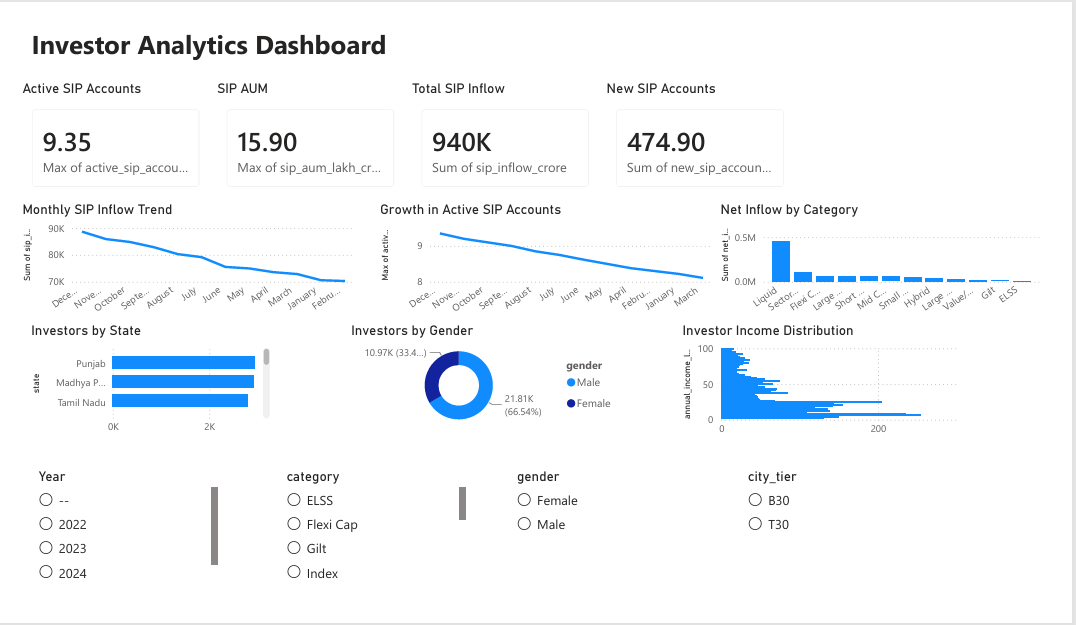

The dashboard page shown, as its layout file describes it:
{"tool":"powerbi","page":{"name":"Investor Analytics","canvas":[1280,720],"ordinal":3},"visuals":[{"type":"textbox","box":[10.7,0,480,53.5],"z":0},{"type":"cardVisual","title":"Active SIP Accounts","fields":{"Data":["Max(04_monthly_sip_inflows.active_sip_accounts_crore)"]},"box":[0,73.2,240.9,149.9],"z":1000},{"type":"cardVisual","title":"SIP AUM","fields":{"Data":["Max(04_monthly_sip_inflows.sip_aum_lakh_crore)"]},"box":[240.9,73.2,240.9,149.9],"z":2000},{"type":"cardVisual","title":"Total SIP Inflow","fields":{"Data":["Sum(04_monthly_sip_inflows.sip_inflow_crore)"]},"box":[481.8,73.2,240.9,149.9],"z":3000},{"type":"cardVisual","title":"New SIP Accounts","fields":{"Data":["Sum(04_monthly_sip_inflows.new_sip_accounts_lakh)"]},"box":[722.7,73.2,240.9,149.9],"z":4000},{"type":"lineChart","title":"Monthly SIP Inflow Trend","fields":{"Category":["DateTable.Month"],"Y":["Sum(04_monthly_sip_inflows.sip_inflow_crore)"]},"box":[0,223,421.1,149.9],"z":5000},{"type":"lineChart","title":"Growth in Active SIP Accounts","fields":{"Category":["DateTable.Month"],"Y":["Max(04_monthly_sip_inflows.active_sip_accounts_crore)"]},"box":[442.5,223,421.1,149.9],"z":6000},{"type":"clusteredColumnChart","title":"Net Inflow by Category","fields":{"Category":["05_category_inflows.category"],"Y":["Sum(05_category_inflows.net_inflow_crore)"]},"box":[863.6,223,405.1,149.9],"z":7000},{"type":"donutChart","title":"Investors by Gender","fields":{"Category":["08_investor_transactions.gender"],"Y":["CountNonNull(08_investor_transactions.investor_id)"]},"box":[406.8,372.9,340.8,137.4],"z":8000},{"type":"clusteredBarChart","title":"Investor Income Distribution","fields":{"Category":["08_investor_transactions.annual_income_lakh"],"Y":["CountNonNull(08_investor_transactions.investor_id)"]},"box":[817.3,372.9,358.7,149.9],"z":9000},{"type":"barChart","title":"Investors by State","fields":{"Y":["CountNonNull(08_investor_transactions.investor_id)"],"Category":["08_investor_transactions.state"]},"box":[10.7,372.9,305.1,148.1],"z":10000},{"type":"listSlicer","fields":{"Values":["DateTable.Year"]},"box":[19.6,553.2,232,150],"z":11000},{"type":"listSlicer","fields":{"Values":["07_scheme_performance.category"]},"box":[326.5,553.2,232,150],"z":12000},{"type":"listSlicer","fields":{"Values":["08_investor_transactions.gender"]},"box":[612,553.2,232,150],"z":13000},{"type":"listSlicer","fields":{"Values":["08_investor_transactions.city_tier"]},"box":[897.6,553.2,232,150],"z":14000}]}

Visuals, with their boxes on the page's 1280x720 design canvas (x1, y1, x2, y2). These are canvas units, not pixel positions in the 1076x625 screenshot, which may show the page scaled, cropped or inside an application window:
textbox: <box>11,0,491,54</box>
"Active SIP Accounts" cardVisual: <box>0,73,241,223</box>
"SIP AUM" cardVisual: <box>241,73,482,223</box>
"Total SIP Inflow" cardVisual: <box>482,73,723,223</box>
"New SIP Accounts" cardVisual: <box>723,73,964,223</box>
"Monthly SIP Inflow Trend" lineChart: <box>0,223,421,373</box>
"Growth in Active SIP Accounts" lineChart: <box>442,223,864,373</box>
"Net Inflow by Category" clusteredColumnChart: <box>864,223,1269,373</box>
"Investors by Gender" donutChart: <box>407,373,748,510</box>
"Investor Income Distribution" clusteredBarChart: <box>817,373,1176,523</box>
"Investors by State" barChart: <box>11,373,316,521</box>
listSlicer - DateTable.Year: <box>20,553,252,703</box>
listSlicer - 07_scheme_performance.category: <box>326,553,558,703</box>
listSlicer - 08_investor_transactions.gender: <box>612,553,844,703</box>
listSlicer - 08_investor_transactions.city_tier: <box>898,553,1130,703</box>
